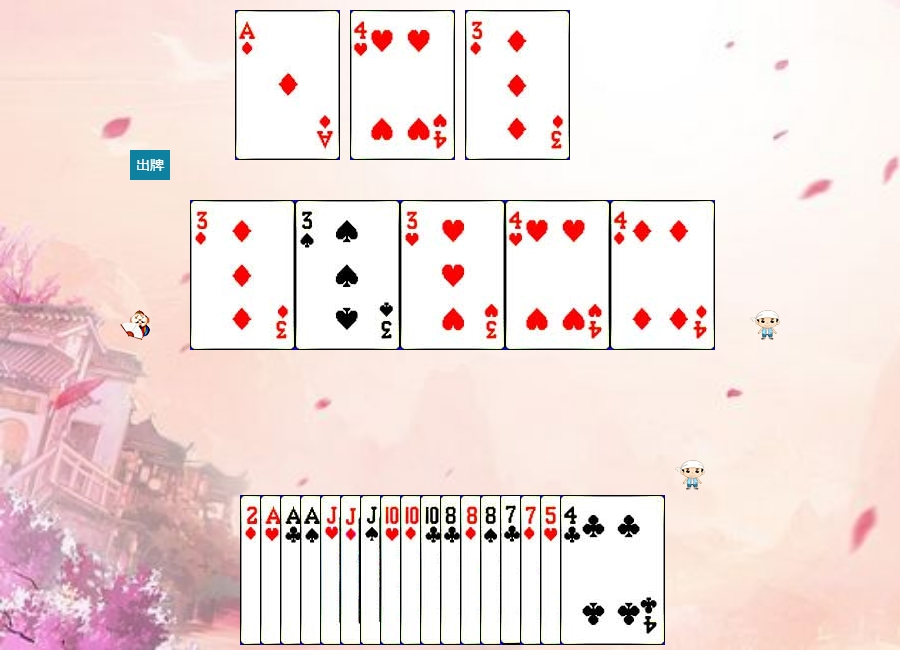10~1: (400, 495, 505, 645)
10~2: (420, 495, 525, 645)
10~3: (380, 495, 485, 645)
11~1: (340, 495, 445, 645)
11~3: (320, 495, 425, 645)
11~4: (360, 495, 465, 645)
14~1: (235, 10, 340, 160)
14~2: (280, 495, 385, 645)
14~3: (260, 495, 365, 645)
14~4: (300, 495, 405, 645)
15~1: (240, 495, 345, 645)
3~1: (465, 10, 570, 160), (190, 200, 295, 350)
3~3: (400, 200, 505, 350)
3~4: (295, 200, 400, 350)
4~1: (610, 200, 715, 350)
4~2: (560, 495, 665, 645)
4~3: (350, 10, 455, 160), (505, 200, 610, 350)
5~3: (540, 495, 645, 645)
7~1: (520, 495, 625, 645)
7~2: (500, 495, 605, 645)
8~1: (460, 495, 565, 645)
8~2: (440, 495, 545, 645)
8~4: (480, 495, 585, 645)
